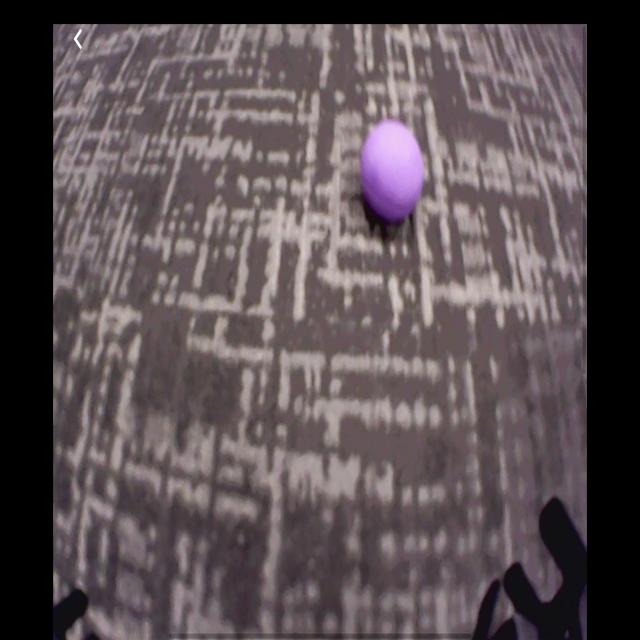ball: (363, 123, 427, 231)
